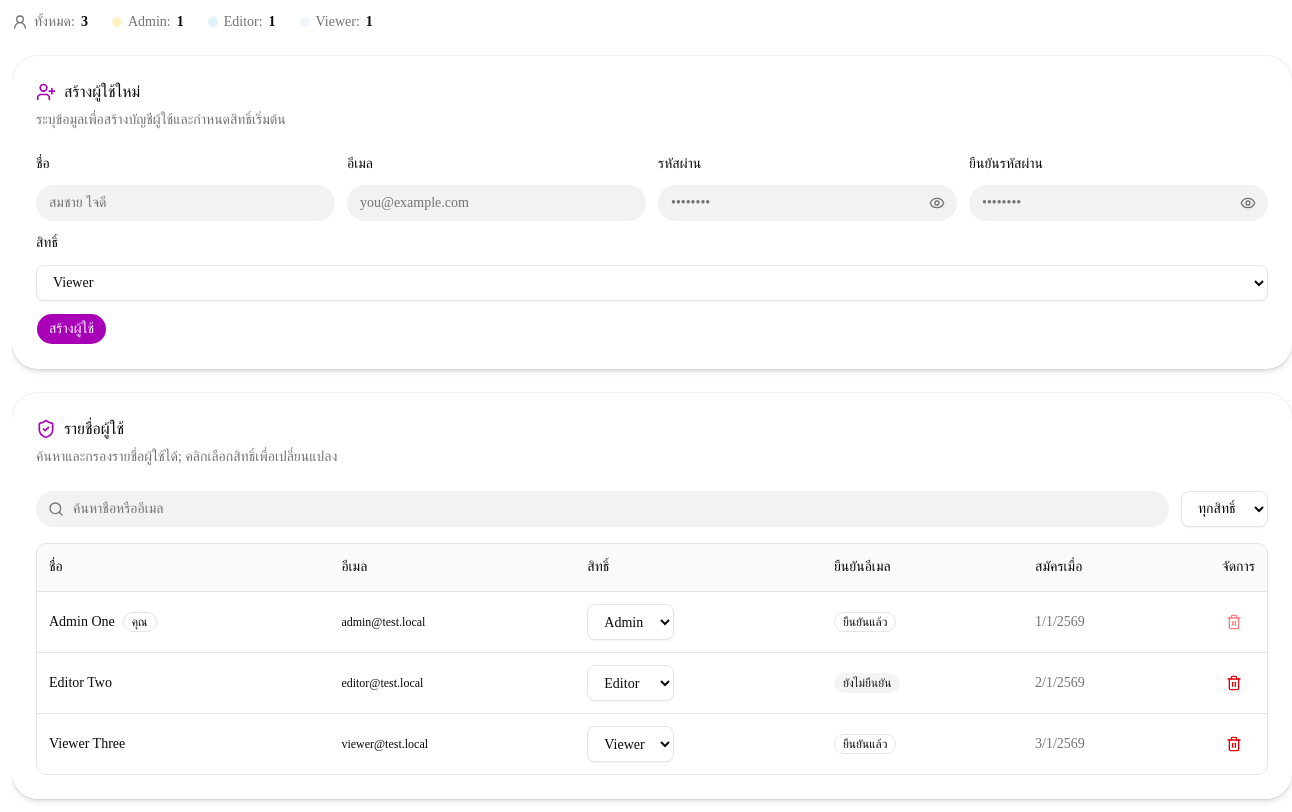
it: AdminClient — search & filter › filters rows by email text
Type "viewer@test.local" into the field labelled "ค้นหาชื่อหรืออีเมล". click: {"x": 602, "y": 508}
box: [36,490,1169,526]
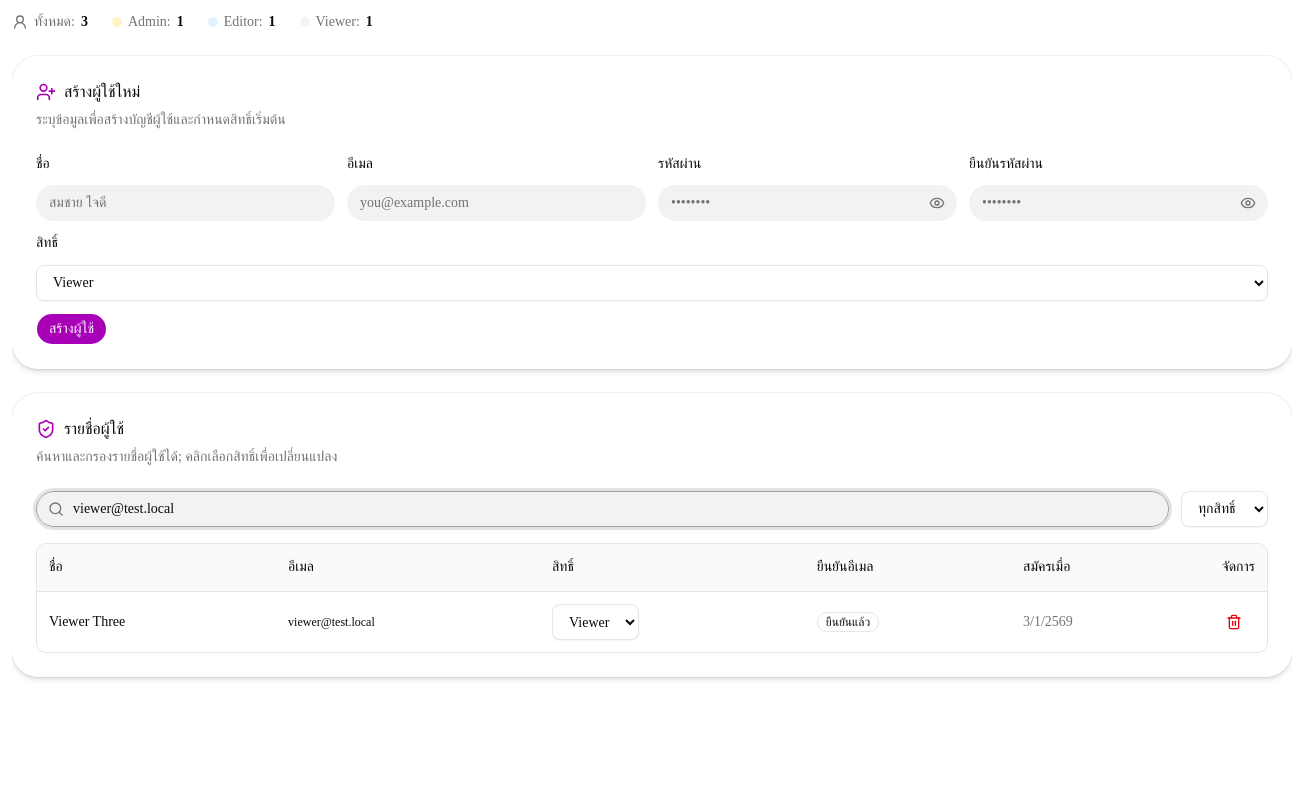
Expected: the text "viewer@test.local" is shown, [276,592,540,652]
Expected: the text "admin@test.local" is gone
Expected: the text "editor@test.local" is gone
